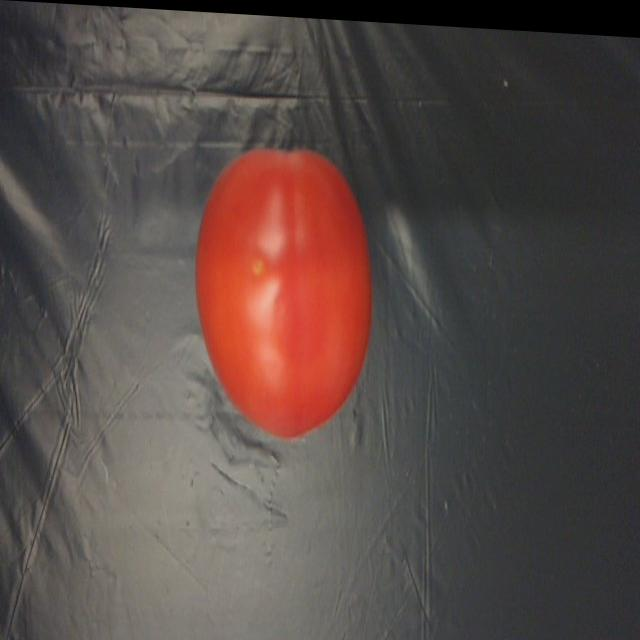kirmizi: (192, 129, 378, 448)
